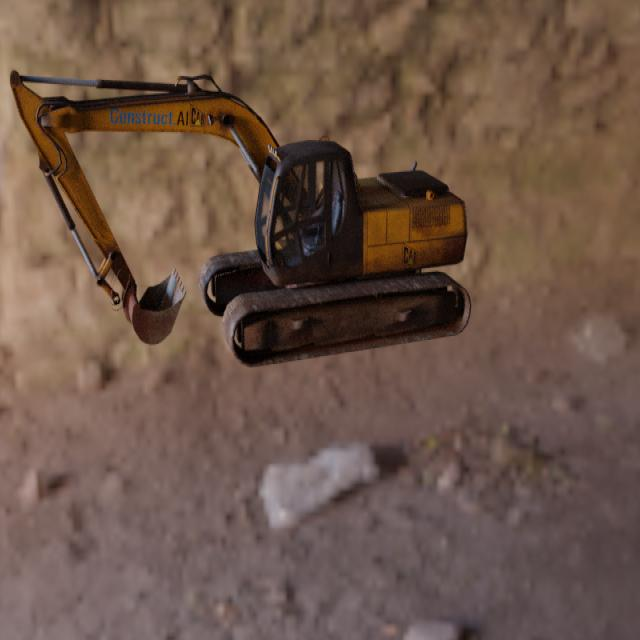excavator: (9, 69, 471, 368)
